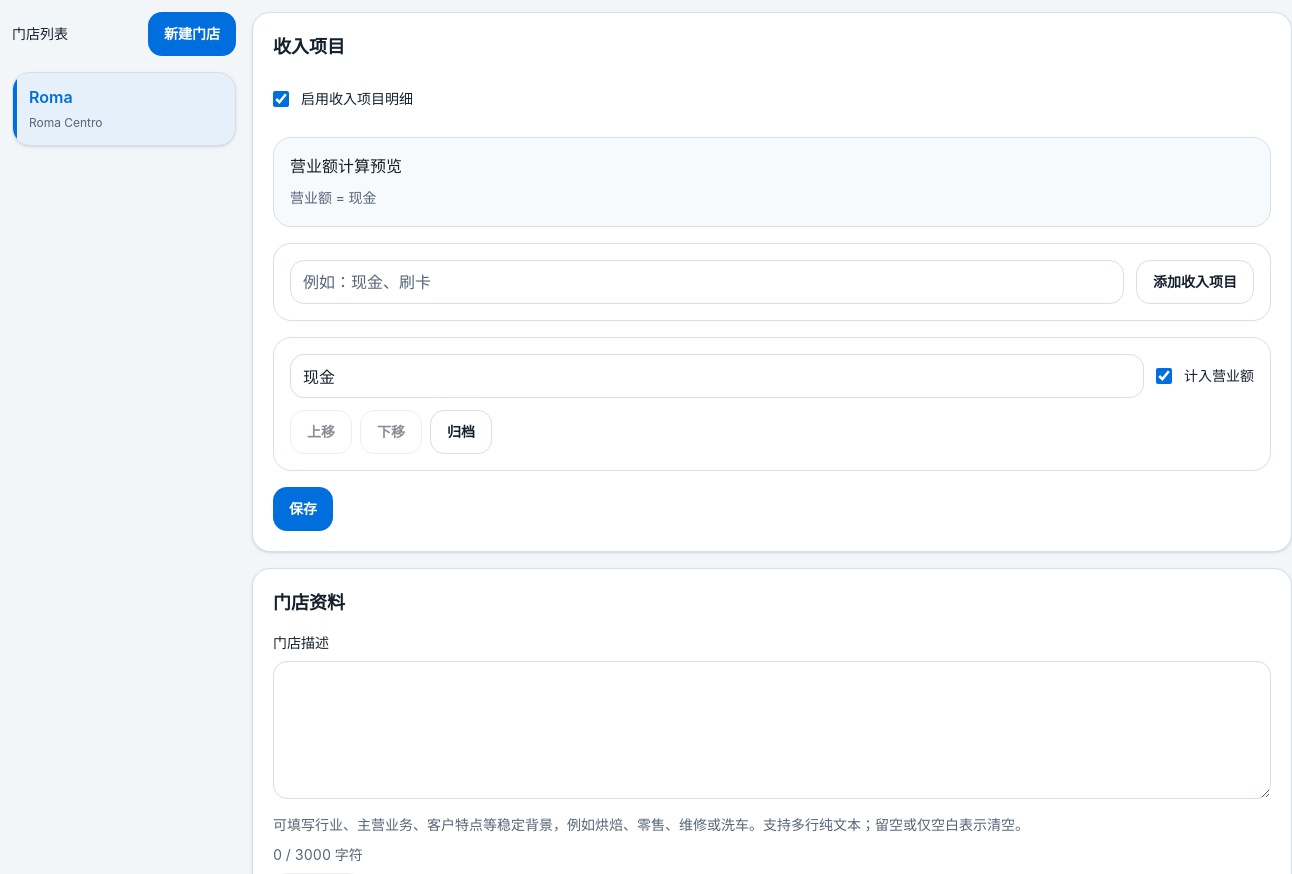
Test case: keeps the store selector blank in create mode without a selectable prompt
Click the button "新建门店": (192, 34) [148,12,236,56]
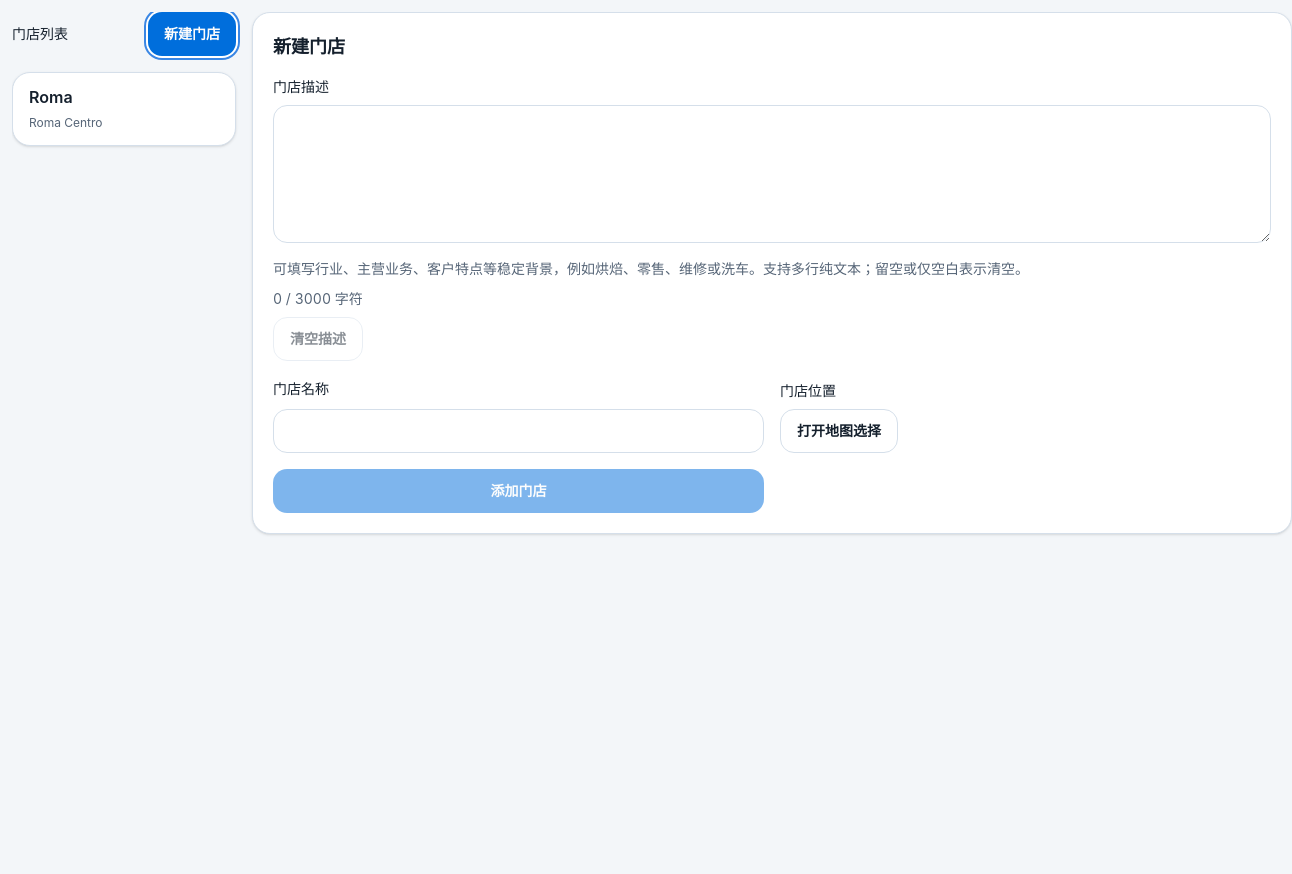
Now the field labelled "门店名称" is shown, box [273,409,764,453]
